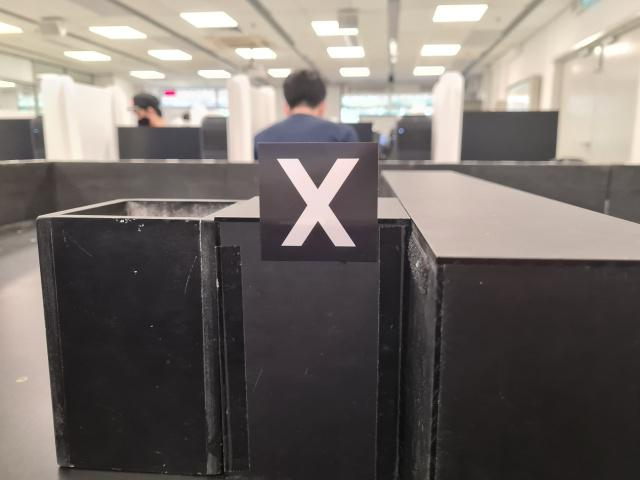x: (257, 141, 378, 262)
